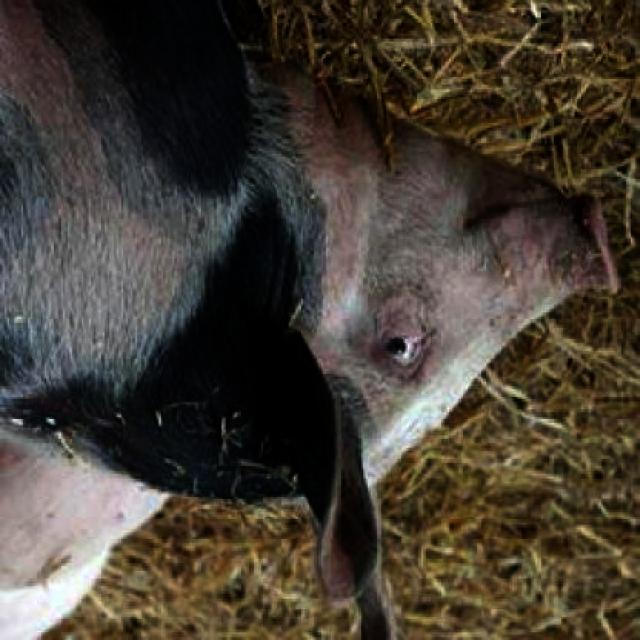pig: (0, 1, 618, 640), (0, 428, 169, 640)
